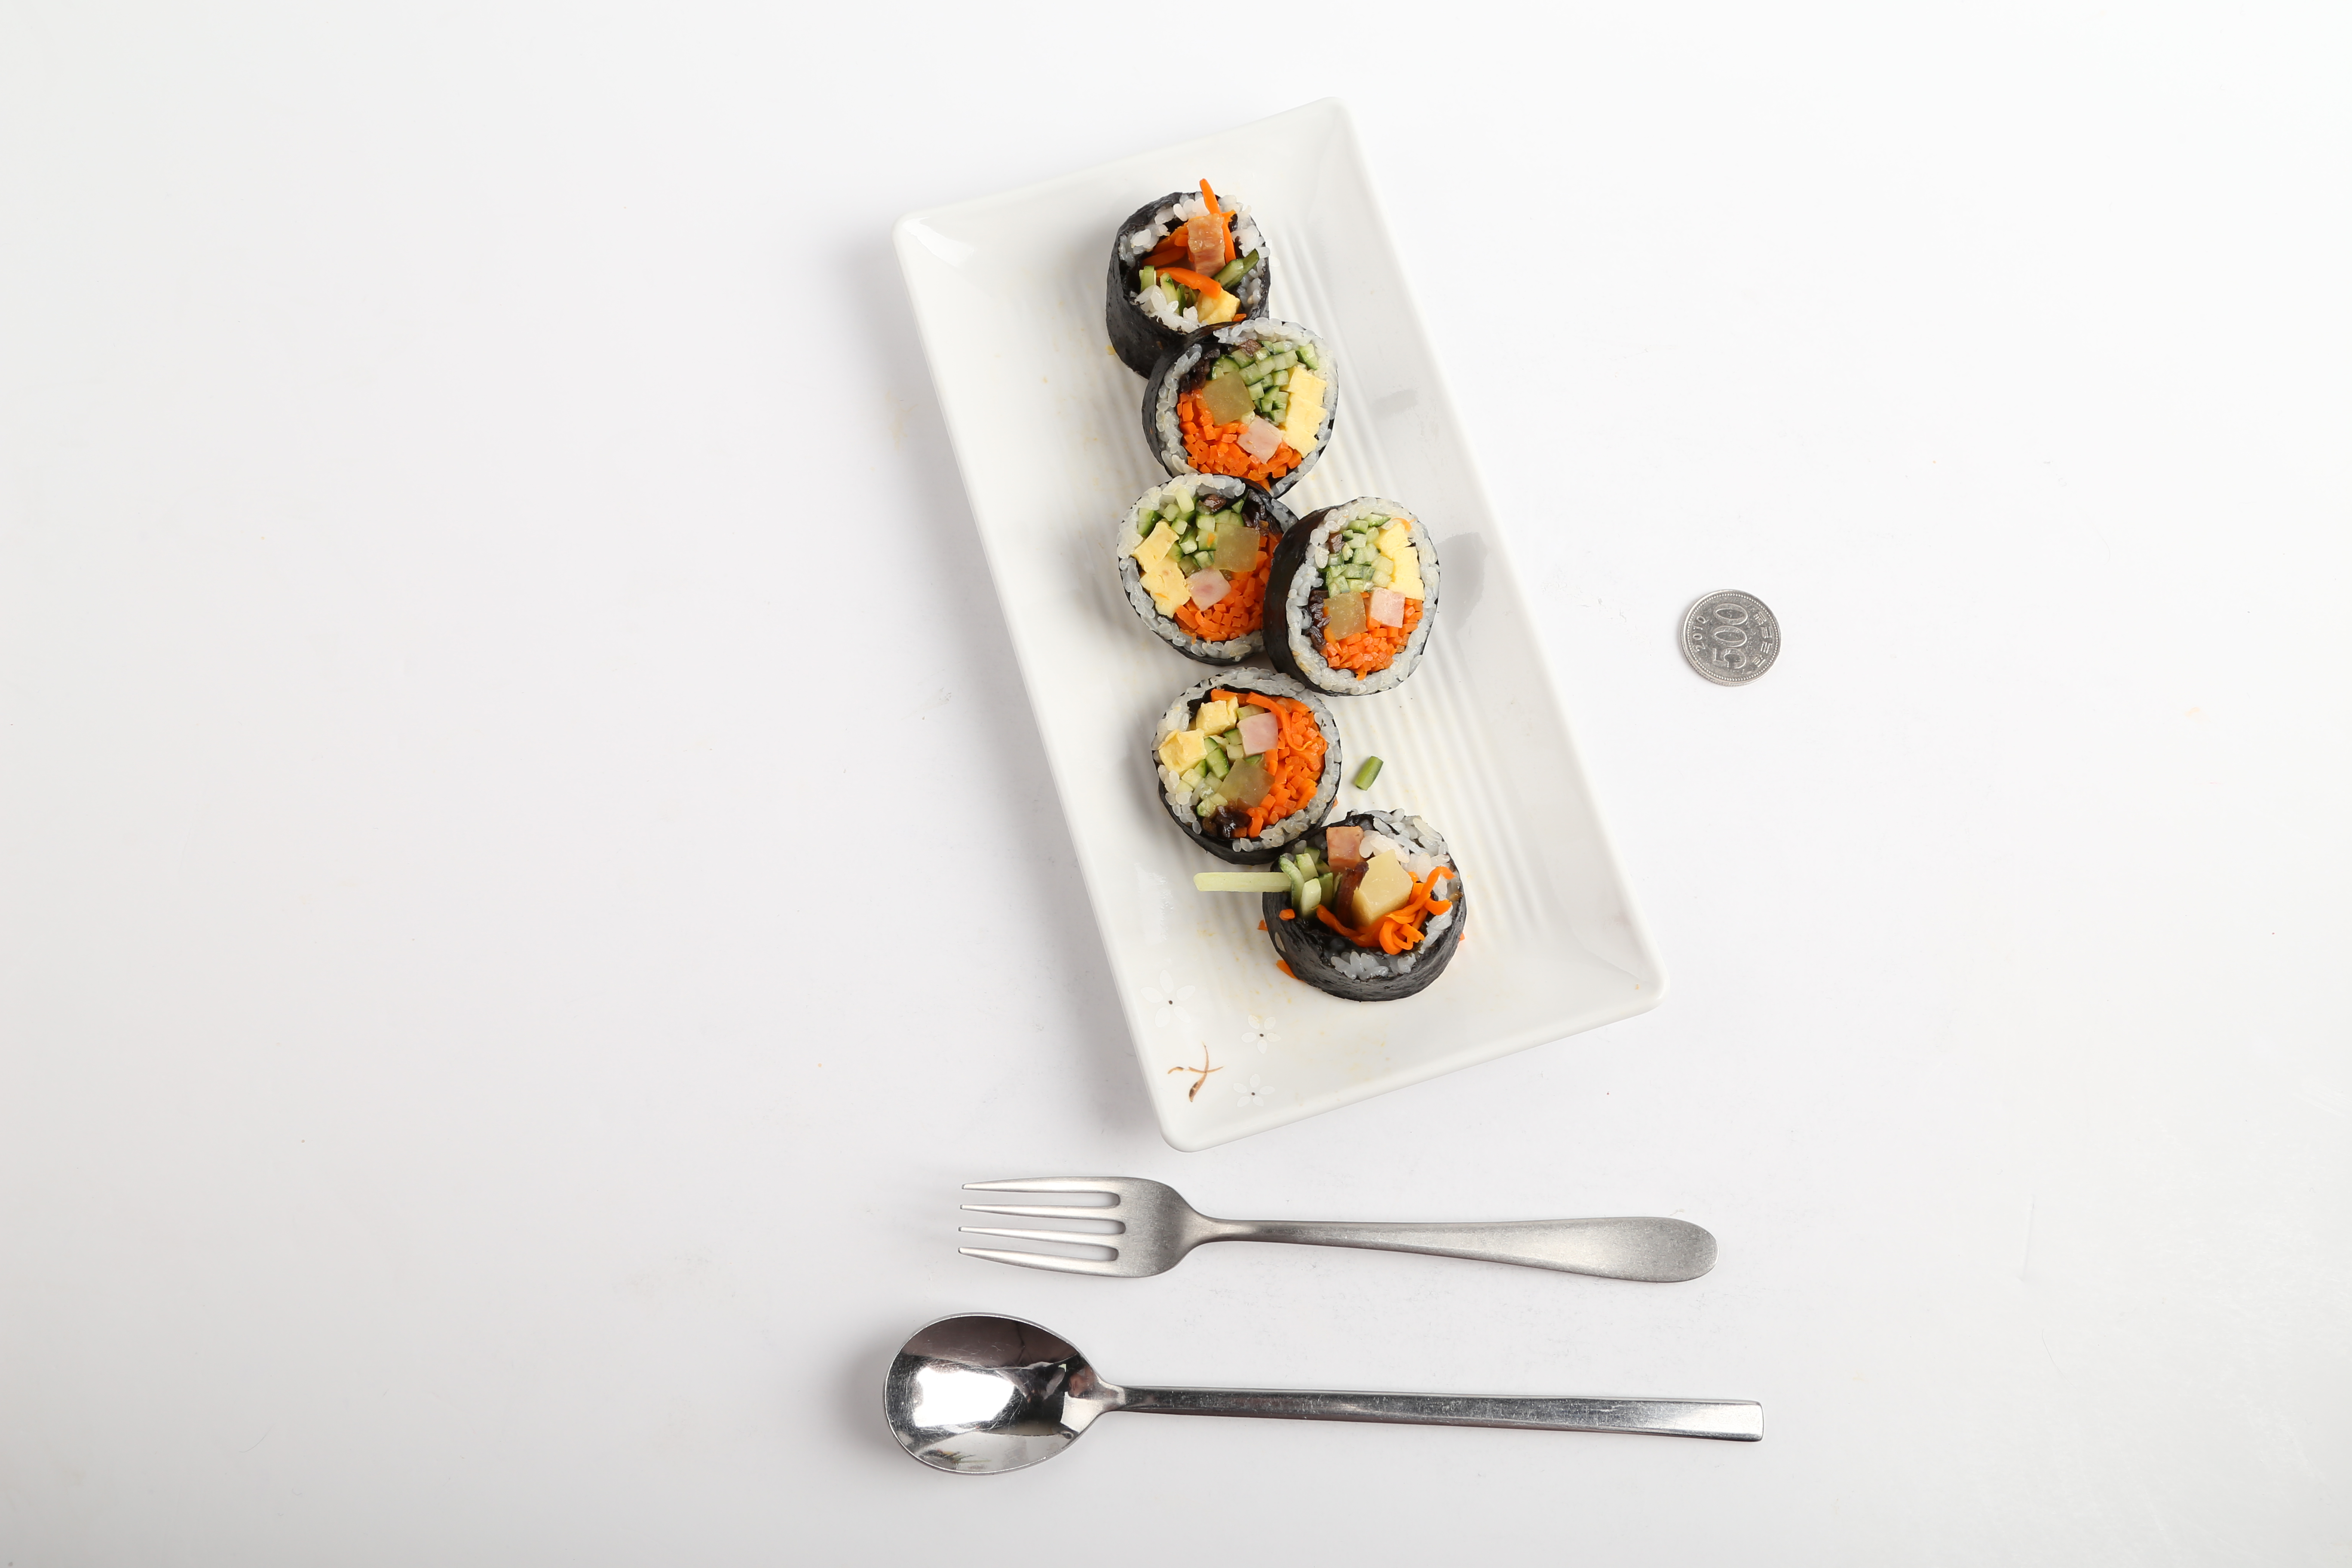dish: (896, 101, 1673, 1148)
ref_coin: (1676, 583, 1781, 693)
ref_fork: (950, 1172, 1253, 1279)
ref_spoon: (880, 1309, 1174, 1482)
김밥: (1102, 185, 1472, 1010)
